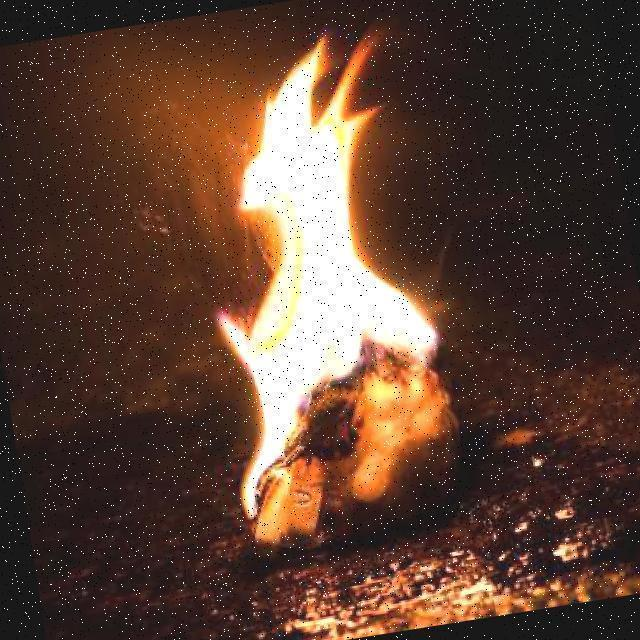Fire: (162, 12, 474, 516)
